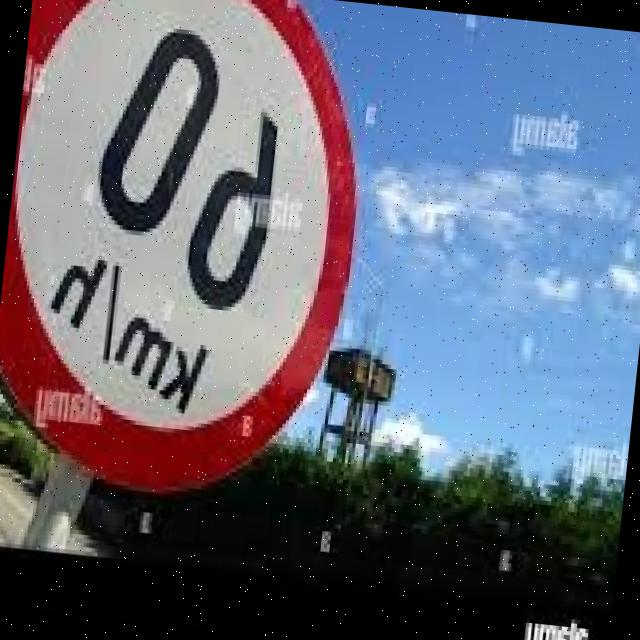speed_limit_60: (0, 0, 383, 515)
